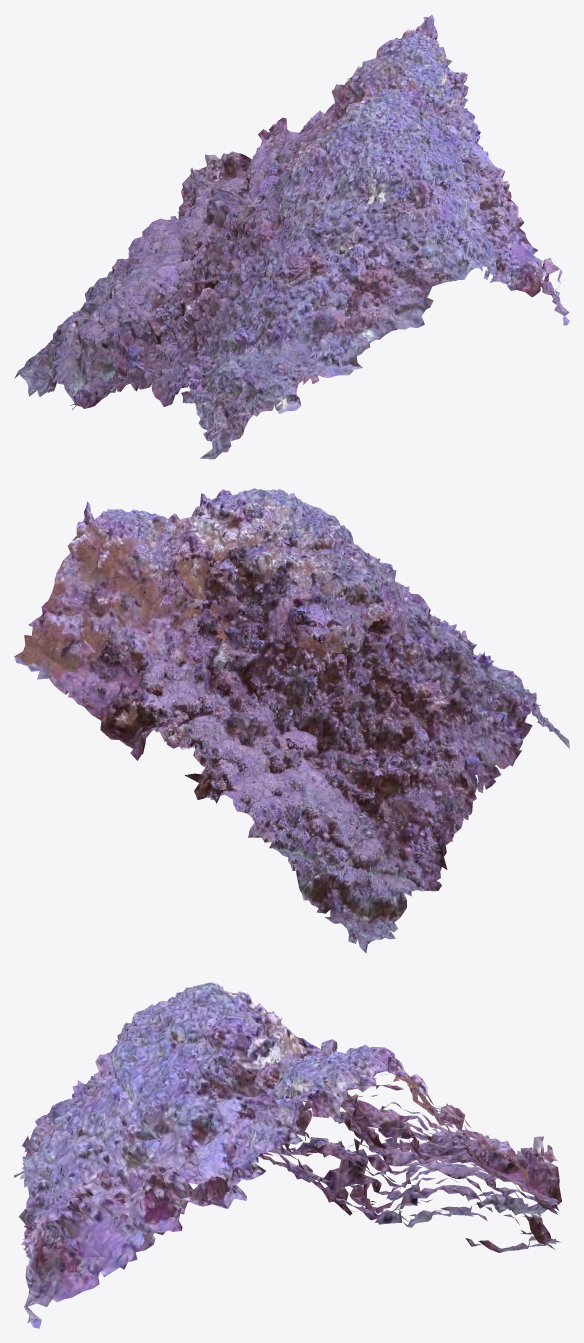
The model's file is Tile_+012_+019_L18_00003.glb.
The picture shows the model from 3 angles, top to bottom: view 1: azimuth 30°, elevation 25°; view 2: azimuth 150°, elevation 25°; view 3: azimuth 270°, elevation 25°; orthographic projection. The views are drawn at different scales.
Parts seen in each view (by area): view 1: rtc; view 2: rtc; view 3: rtc.
Part boxes in pixels (left/top/right/bottom): rtc: left=14, top=15, right=569, bottom=459; rtc: left=14, top=488, right=569, bottom=953; rtc: left=14, top=982, right=561, bottom=1328.
Bounding box in the file's own units: 107 × 90.17 × 107.
Materials: 1 (1 with a texture image).
